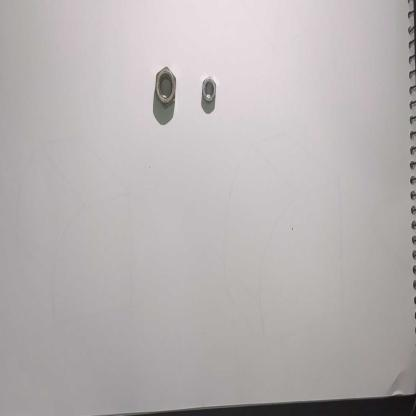NUTS: (154, 63, 181, 108), (201, 74, 218, 108)
